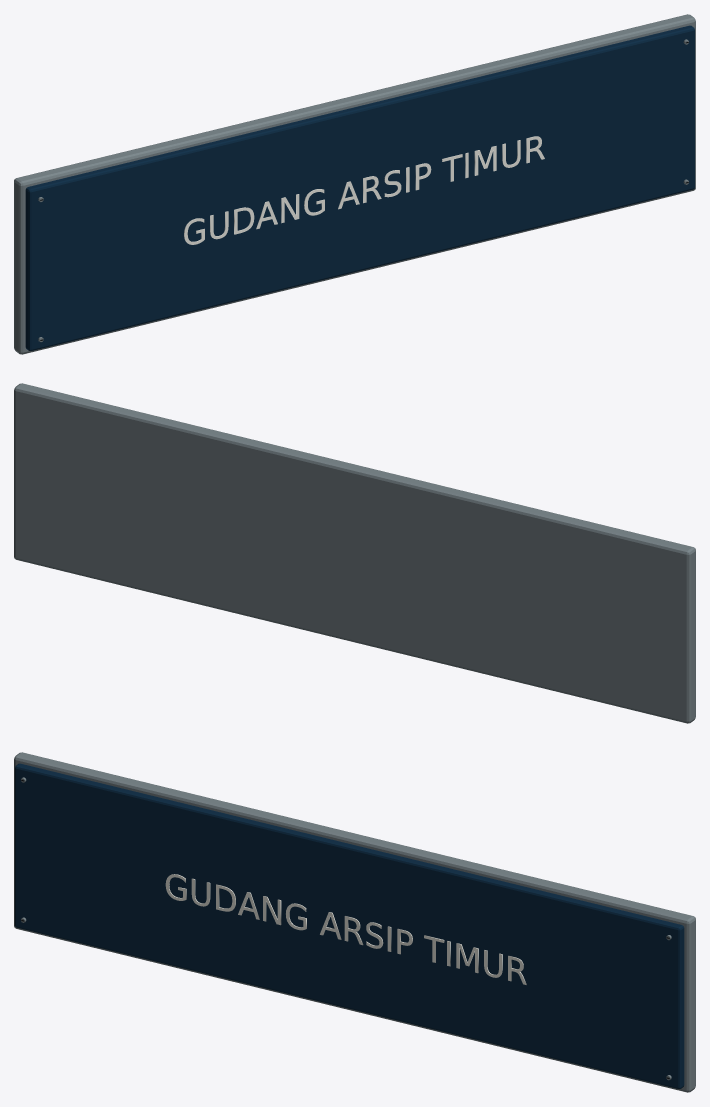
File: OAA_Papan_Ruang_Gudang_Arsip_Timur.fbx
3 views of the same model, one above another, from view 1: azimuth 30°, elevation 25°; view 2: azimuth 150°, elevation 25°; view 3: azimuth 330°, elevation 25° (orthographic).
Parts seen in each view (by area): view 1: Body; view 2: Body; view 3: Body.
Boxes of the visible parts, x1,y1,x2,y2 form: Body: (14, 14, 695, 354); Body: (14, 383, 695, 723); Body: (14, 752, 695, 1092).
Size of the model in its own units: 0.9 by 0.22 by 0.0312.
